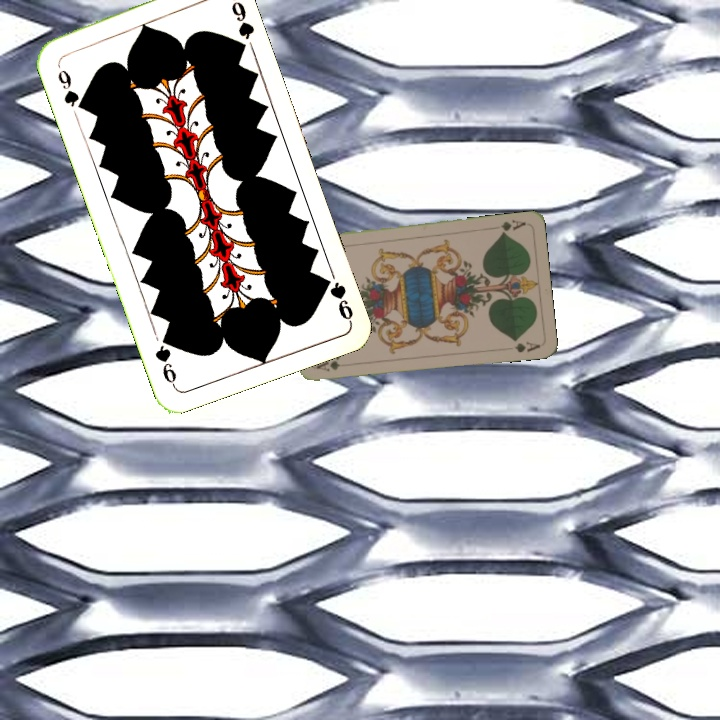G9: (317, 272, 356, 325), (53, 65, 87, 112)
GA: (488, 216, 528, 237), (313, 357, 343, 374)
